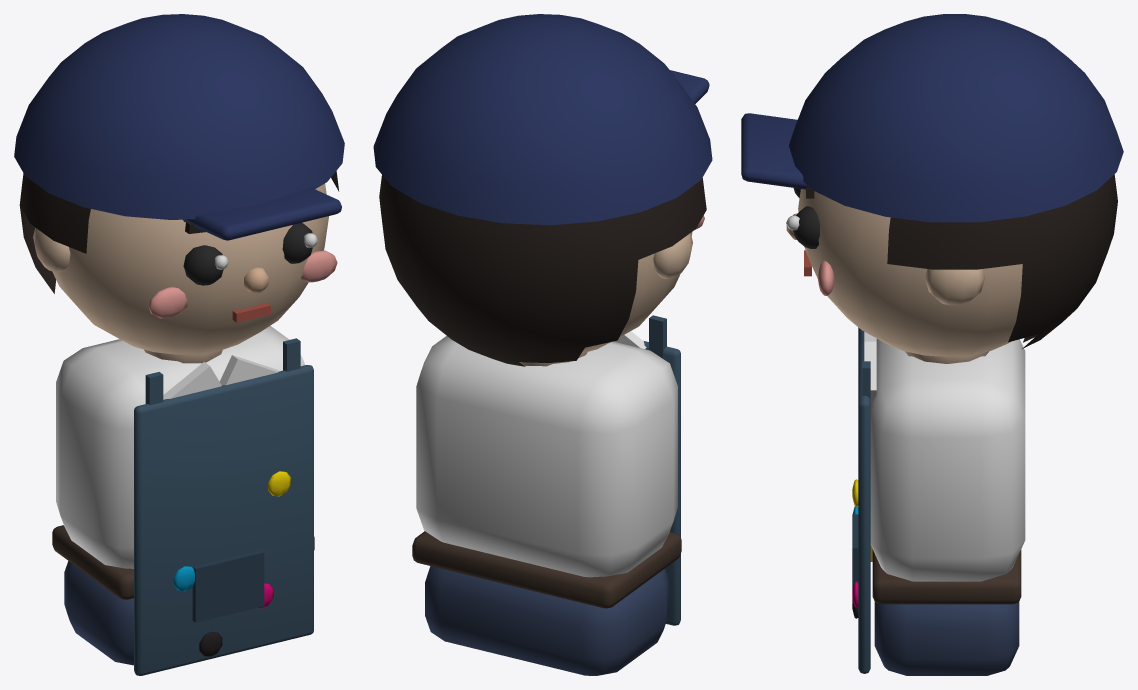
Rendered from person_d.glb.
3 views of the same model, side by side, from view 1: azimuth 30°, elevation 25°; view 2: azimuth 150°, elevation 25°; view 3: azimuth 270°, elevation 25° (orthographic). The views are drawn at different scales.
Visible parts, largest first — view 1: person_d; view 2: person_d; view 3: person_d.
Part boxes in pixels (left/top/right/bottom): person_d: left=14, top=14, right=344, bottom=675; person_d: left=373, top=14, right=712, bottom=675; person_d: left=741, top=14, right=1123, bottom=675.
Size of the model in its own units: 0.166 by 0.335 by 0.1901.
